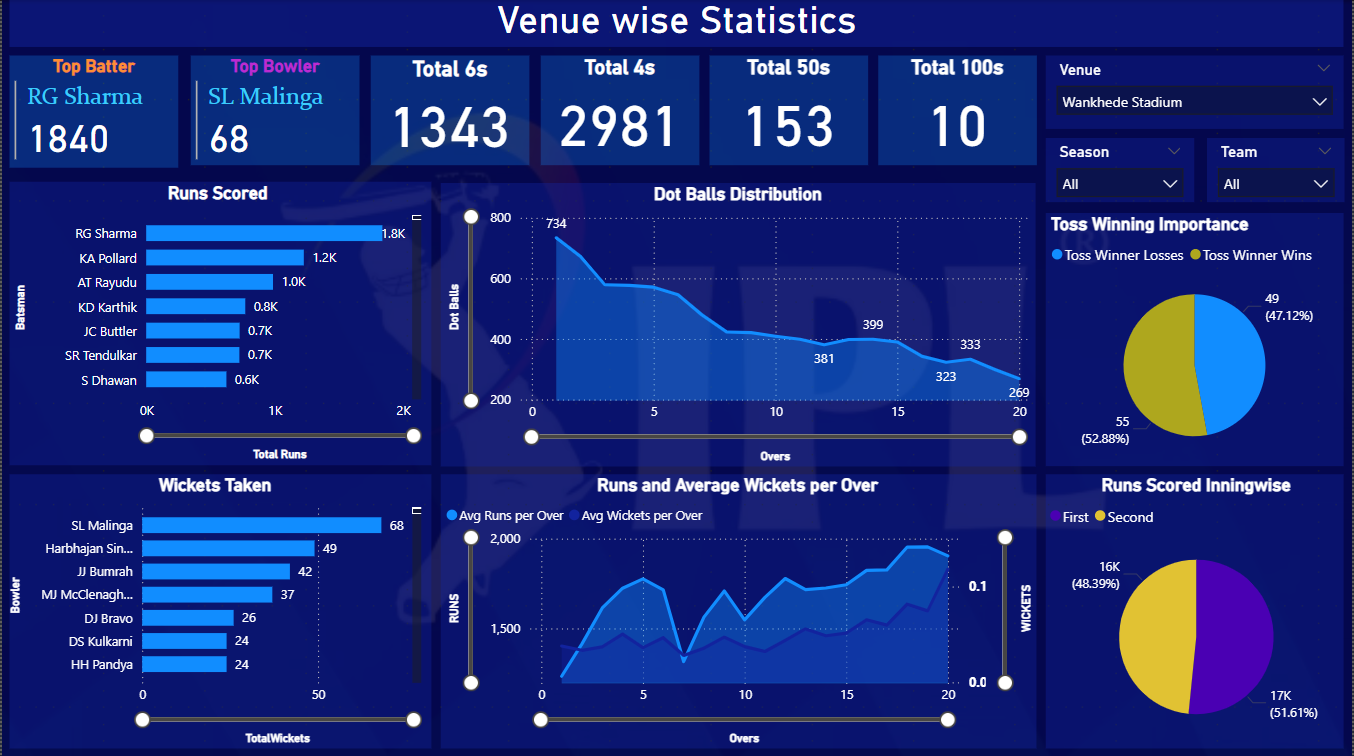

This screenshot's page, from the dashboard's own definition file:
{"tool":"powerbi","page":{"name":"Venue","canvas":[1280,720],"ordinal":2},"visuals":[{"type":"card","title":"Total 4s","fields":{"Values":["IPL_Balls_final.Total4s"]},"box":[511.2,55,150,103.8],"z":0},{"type":"card","title":"Total 6s","fields":{"Values":["IPL_Balls_final.6s"]},"box":[350,55,150,103.8],"z":1000},{"type":"multiRowCard","title":"Top Batter","fields":{"Values":["IPL_Balls_final.Top_Batsman","IPL_Balls_final.MaxRunsValue"]},"box":[7.5,55,160,106.2],"z":2000},{"type":"multiRowCard","title":"Top Bowler","fields":{"Values":["IPL_Balls_final.Top_Bowler","IPL_Balls_final.MaxBowlerWicketsValue"]},"box":[178.8,55,160,103.8],"z":3000},{"type":"textbox","title":"Venue wise Statistics","box":[7.5,0,1265.1,46],"z":4000},{"type":"clusteredBarChart","title":"Runs Scored","fields":{"Category":["IPL_Balls_final.batter"],"Y":["IPL_Balls_final.Total Runs"]},"box":[7.1,174.3,400,268.6],"z":5000},{"type":"clusteredBarChart","title":"Wickets Taken","fields":{"Y":["IPL_Balls_final.TotalWickets"],"Category":["IPL_Balls_final.bowler"]},"box":[7.1,451.4,400,260],"z":6000},{"type":"areaChart","title":"Runs and Average Wickets per Over","fields":{"Y":["IPL_Balls_final.Avg Runs per Over"],"Y2":["IPL_Balls_final.Avg Wickets per Over"],"Category":["IPL_Balls_final.DisplayOver"]},"box":[416.2,451.2,565,260],"z":7000},{"type":"card","title":"Total 50s","fields":{"Values":["IPL_Balls_final.50s"]},"box":[671.2,55,150,103.8],"z":8000},{"type":"card","title":"Total 100s","fields":{"Values":["IPL_Balls_final.100s"]},"box":[831.2,55,150,103.8],"z":9000},{"type":"lineChart","title":"Dot Balls Distribution","fields":{"Y":["IPL_Balls_final.Dot Balls"],"Category":["IPL_Balls_final.DisplayOver"]},"box":[416.2,175,563.8,268.8],"z":10000},{"type":"pieChart","title":"Runs Scored Inningwise","fields":{"Y":["IPL_Balls_final.First","IPL_Balls_final.Second"],"Category":["IPL_Balls_final.InningsLabel"]},"box":[990,451.2,282.5,260],"z":11000},{"type":"pieChart","title":"Toss Winning Importance","fields":{"Y":["IPL_Balls_final.Toss Winner Losses","IPL_Balls_final.Toss Winner Wins"]},"box":[990.2,204,282.4,240.1],"z":12000},{"type":"slicer","fields":{"Values":["IPL_Matches_final.Season"]},"box":[990.2,133.1,140.6,61],"z":13000},{"type":"slicer","fields":{"Values":["IPL_Matches_final.Venue"]},"box":[990.2,54.7,282.4,69.7],"z":14000},{"type":"slicer","fields":{"Values":["Teams.Team"]},"box":[1142,133.1,130.6,61],"z":15000}]}

Visuals, with their boxes in screenshot pixels (x1, y1, x2, y2), scaled from the page's 1280x720 canvas onto the 1354x756 screenshot:
"Total 4s" card: [541,58,699,167]
"Total 6s" card: [370,58,529,167]
"Top Batter" multiRowCard: [8,58,177,169]
"Top Bowler" multiRowCard: [189,58,358,167]
"Venue wise Statistics" textbox: [8,0,1346,48]
"Runs Scored" clusteredBarChart: [8,183,431,465]
"Wickets Taken" clusteredBarChart: [8,474,431,747]
"Runs and Average Wickets per Over" areaChart: [440,474,1038,747]
"Total 50s" card: [710,58,869,167]
"Total 100s" card: [879,58,1038,167]
"Dot Balls Distribution" lineChart: [440,184,1037,466]
"Runs Scored Inningwise" pieChart: [1047,474,1346,747]
"Toss Winning Importance" pieChart: [1047,214,1346,466]
slicer - IPL_Matches_final.Season: [1047,140,1196,204]
slicer - IPL_Matches_final.Venue: [1047,57,1346,131]
slicer - Teams.Team: [1208,140,1346,204]
